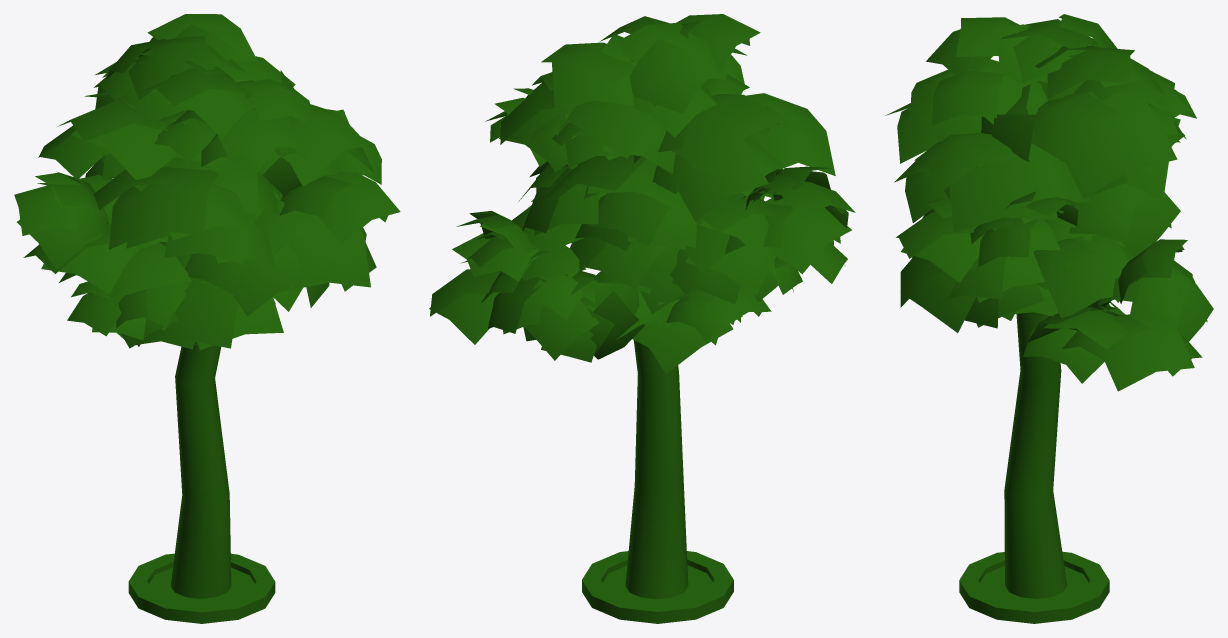
File: Tree_Medium.fbx
3 views of the same model, side by side, from view 1: azimuth 30°, elevation 25°; view 2: azimuth 150°, elevation 25°; view 3: azimuth 270°, elevation 25° (orthographic). The views are drawn at different scales.
Visible parts, largest first — view 1: Tree_Medium; view 2: Tree_Medium; view 3: Tree_Medium.
Boxes of the visible parts, x1=… form: Tree_Medium: x1=14, y1=14, x2=400, y2=623; Tree_Medium: x1=429, y1=14, x2=855, y2=623; Tree_Medium: x1=885, y1=14, x2=1213, y2=623.
Size of the model in its own units: 32.14 by 47.32 by 25.2.
